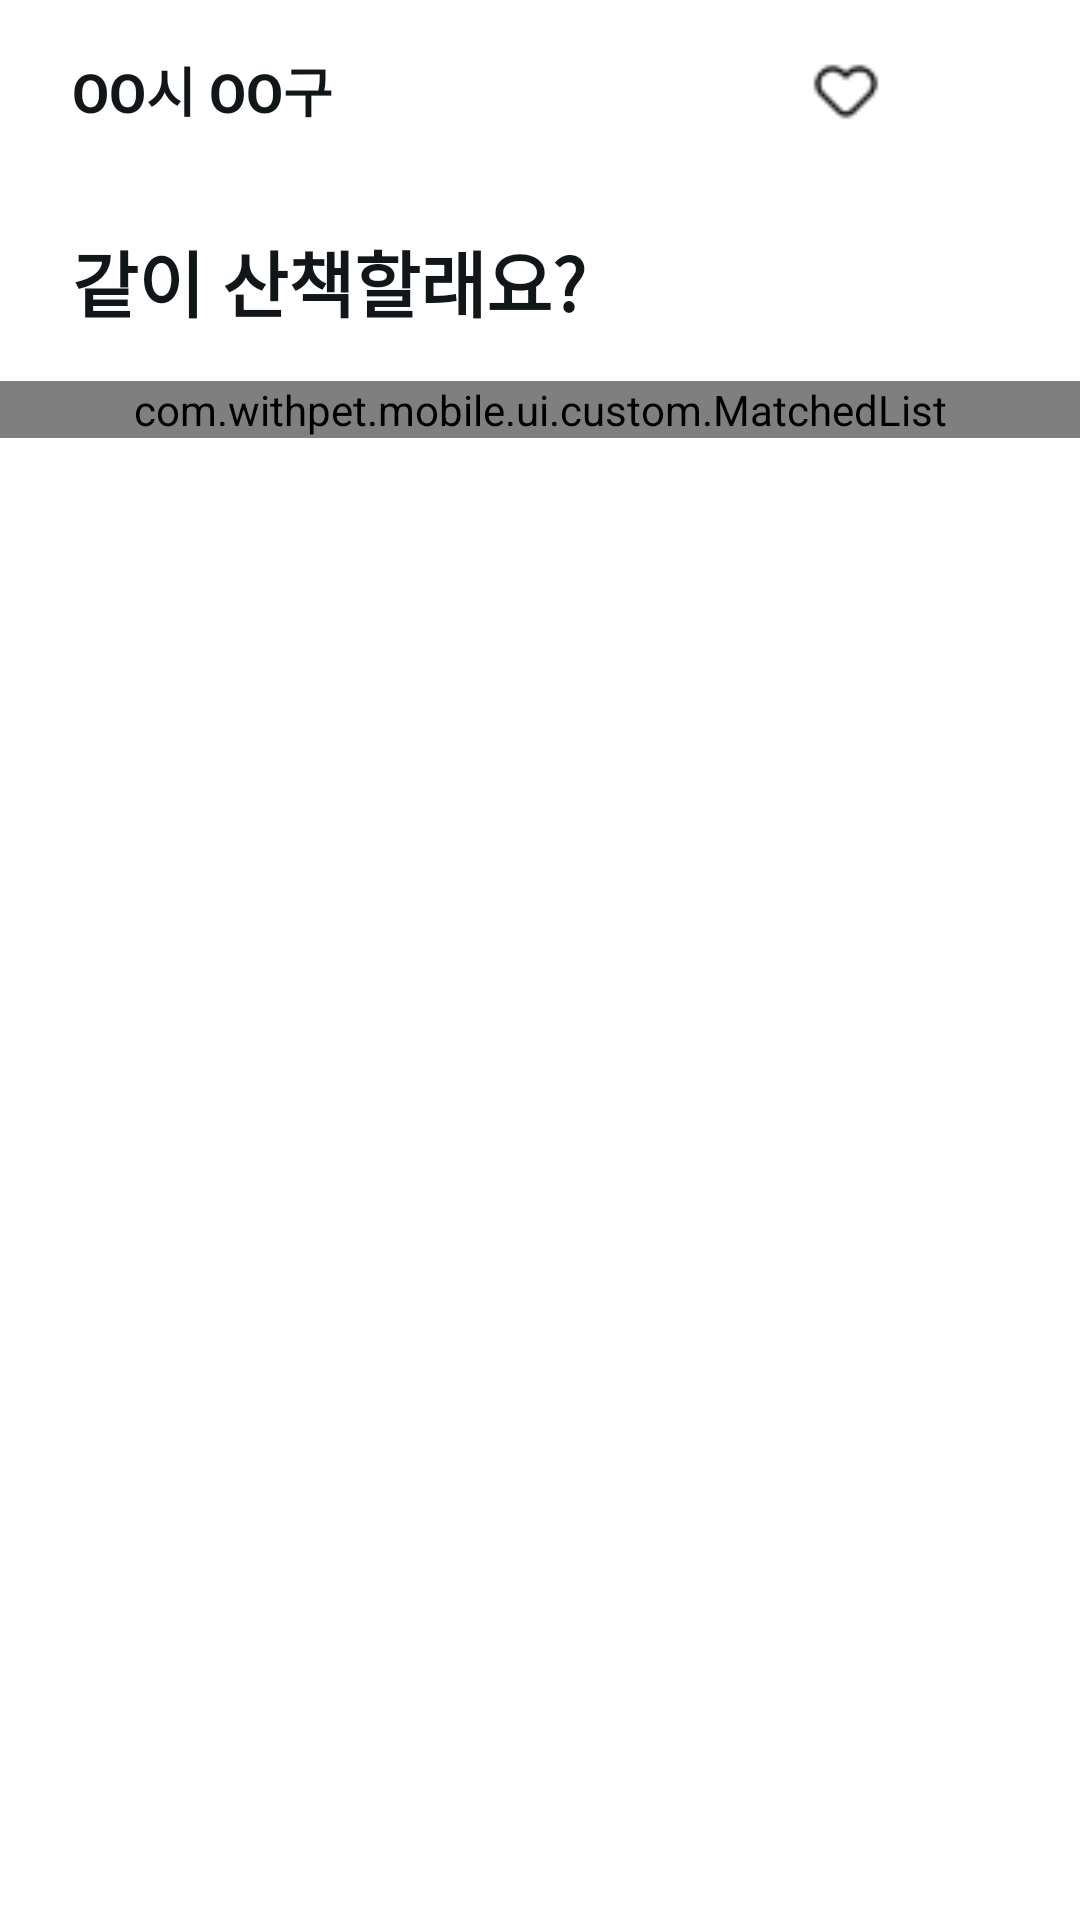

Screen size 1080 x 1920. Icon name, then its box in pixels as detection(x1, y1, x2, y2):
hearth: detection(813, 64, 879, 119)
